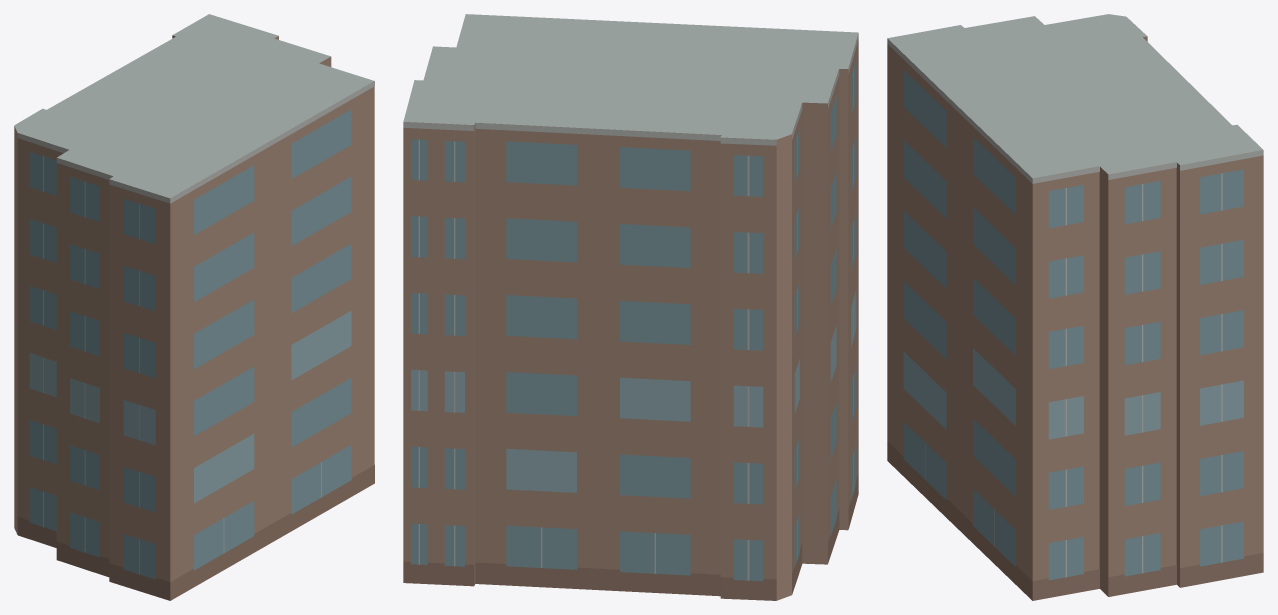
File: survey-upis-32573767.glb
3 views of the same model, side by side, from view 1: azimuth 30°, elevation 25°; view 2: azimuth 150°, elevation 25°; view 3: azimuth 270°, elevation 25° (orthographic). The views are drawn at different scales.
Visible parts, largest first — view 1: survey-upis-32573767.tmp; view 2: survey-upis-32573767.tmp; view 3: survey-upis-32573767.tmp.
Boxes of the visible parts, <box> form: survey-upis-32573767.tmp: <box>14,14,374,600</box>; survey-upis-32573767.tmp: <box>403,14,858,600</box>; survey-upis-32573767.tmp: <box>887,14,1263,600</box>.
Bounding box in the file's own units: 15.7 × 18.8 × 15.19.
